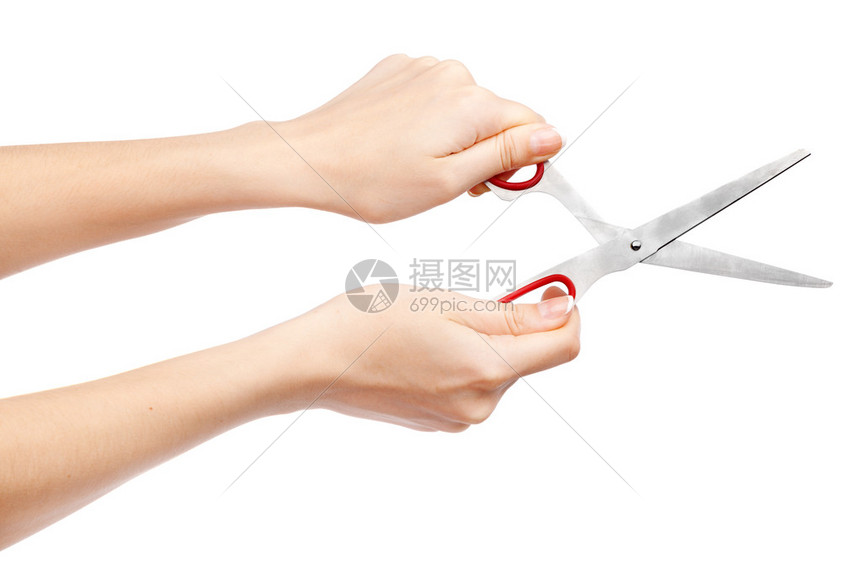scissors: (467, 129, 860, 332)
